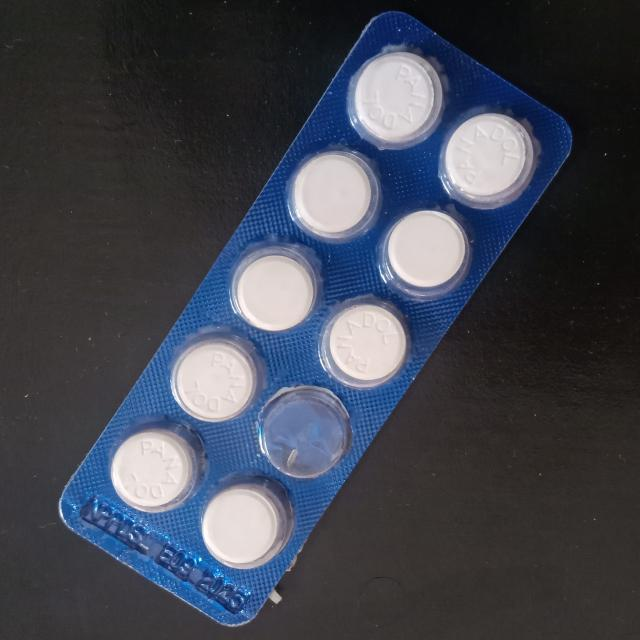defect: (256, 385, 353, 479)
